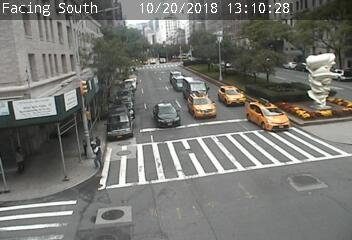car: (250, 104, 278, 131), (191, 95, 216, 115), (154, 101, 174, 119), (222, 89, 243, 106), (184, 80, 206, 93), (172, 77, 186, 88), (170, 70, 181, 77)
